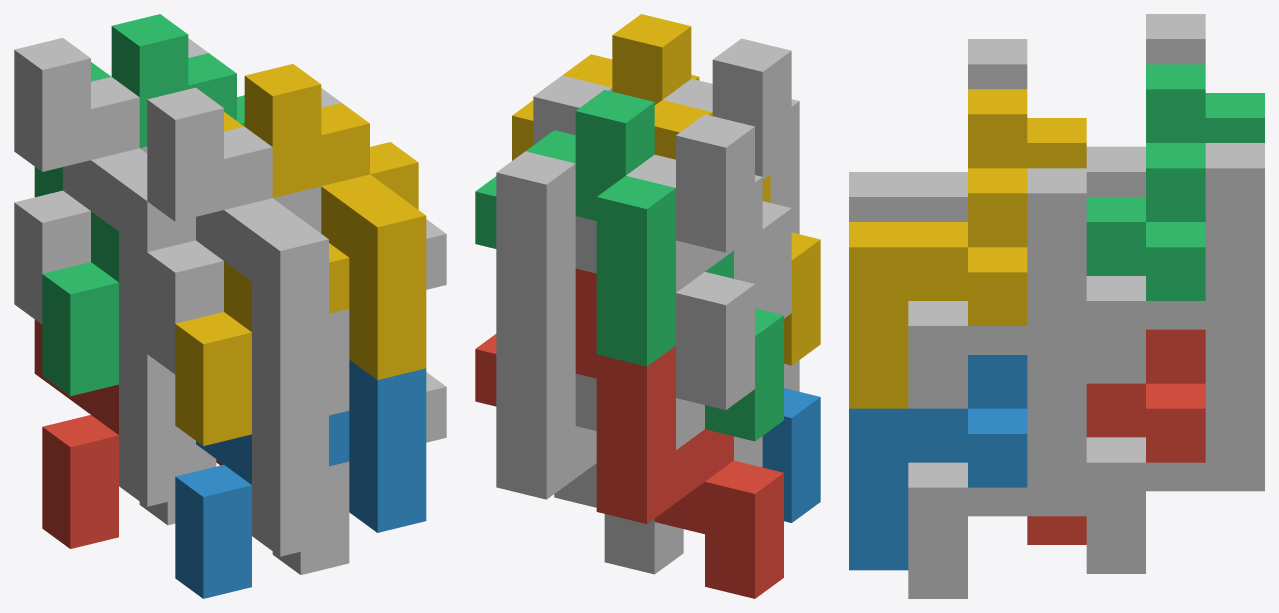
File: tiling.obj
3 renders of one model, left to right at view 1: azimuth 30°, elevation 25°; view 2: azimuth 150°, elevation 25°; view 3: azimuth 270°, elevation 25°, orthographic. The views are drawn at different scales.
Visible parts, largest first — view 1: copy_2_domain_4, copy_2_domain_8, copy_2_domain_3, copy_2_domain_2, copy_2_domain_1, copy_1_domain_4, copy_2_domain_6, copy_1_domain_2, copy_1_domain_3, copy_1_domain_1, copy_2_domain_7, copy_1_domain_6 (+2 smaller); view 2: copy_1_domain_1, copy_1_domain_3, copy_1_domain_5, copy_2_domain_3, copy_1_domain_7, copy_2_domain_1, copy_2_domain_4, copy_2_domain_7, copy_2_domain_8, copy_1_domain_4, copy_1_domain_2, copy_2_domain_5 (+2 smaller); view 3: copy_2_domain_8, copy_2_domain_6, copy_1_domain_5, copy_1_domain_6, copy_1_domain_7, copy_1_domain_8, copy_2_domain_7, copy_2_domain_5, copy_2_domain_4, copy_2_domain_3, copy_1_domain_4, copy_1_domain_3.
Boxes of the visible parts, x1,y1,x2,y2 form: copy_2_domain_4: (147, 87, 328, 403); copy_2_domain_8: (244, 64, 426, 379); copy_2_domain_3: (14, 38, 195, 353); copy_2_domain_2: (147, 240, 328, 556); copy_2_domain_1: (14, 190, 195, 506); copy_1_domain_4: (175, 112, 349, 445); copy_2_domain_6: (349, 360, 426, 532); copy_1_domain_2: (175, 410, 349, 598); copy_1_domain_3: (34, 62, 118, 396); copy_1_domain_1: (34, 319, 118, 548); copy_2_domain_7: (111, 14, 244, 147); copy_1_domain_6: (272, 372, 446, 574); copy_1_domain_1: (596, 345, 783, 598); copy_1_domain_3: (596, 176, 783, 441); copy_1_domain_5: (496, 321, 683, 574); copy_2_domain_3: (575, 114, 762, 309); copy_1_domain_7: (496, 151, 575, 341); copy_2_domain_1: (575, 272, 762, 467); copy_2_domain_4: (663, 38, 799, 234); copy_2_domain_7: (475, 90, 654, 248); copy_2_domain_8: (512, 14, 699, 160); copy_1_domain_4: (654, 100, 820, 365); copy_1_domain_2: (762, 388, 820, 522); copy_2_domain_5: (475, 268, 596, 406); copy_2_domain_8: (849, 89, 1027, 408); copy_2_domain_6: (849, 355, 1027, 570); copy_1_domain_5: (1086, 329, 1264, 573); copy_1_domain_6: (908, 355, 1086, 598); copy_1_domain_7: (1086, 143, 1264, 383); copy_1_domain_8: (908, 168, 1086, 408); copy_2_domain_7: (1086, 64, 1205, 300); copy_2_domain_5: (1027, 329, 1205, 544); copy_2_domain_4: (849, 39, 1027, 221); copy_2_domain_3: (1086, 14, 1205, 196); copy_1_domain_4: (1027, 118, 1086, 168); copy_1_domain_3: (1205, 93, 1264, 142).
Bounding box in the file's own units: 6 × 9 × 7.
